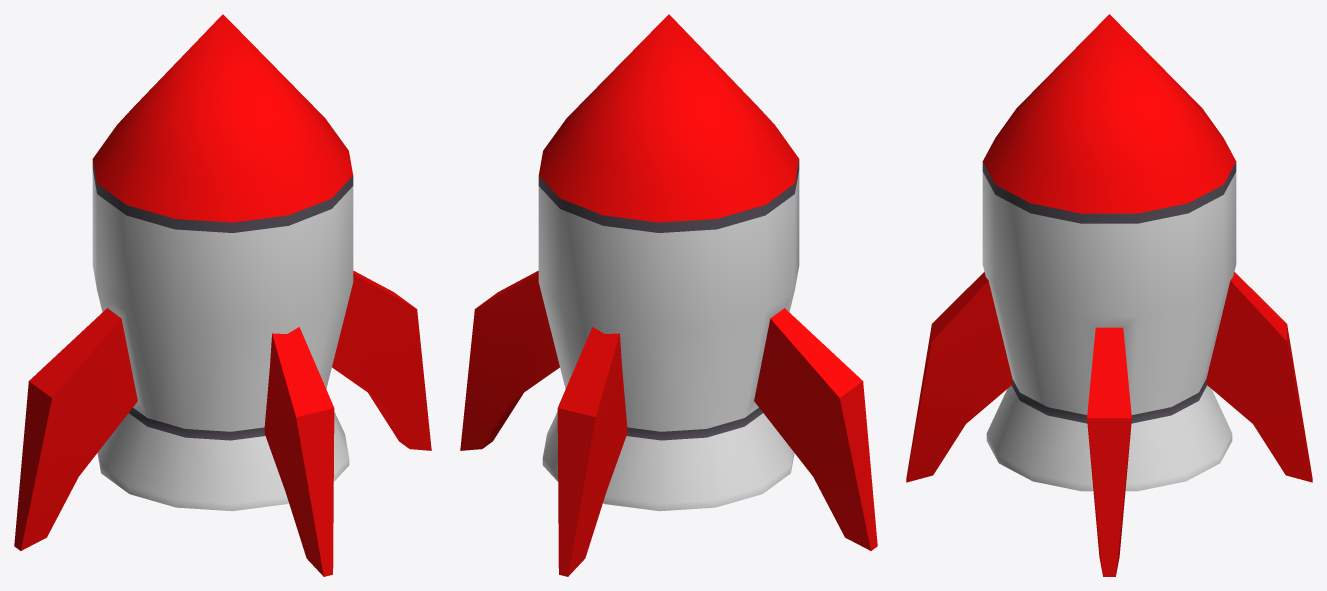
File: bomba.fbx
3 renders of one model, left to right at view 1: azimuth 30°, elevation 25°; view 2: azimuth 150°, elevation 25°; view 3: azimuth 270°, elevation 25°, orthographic. The views are drawn at different scales.
Visible parts, largest first — view 1: Cylinder; view 2: Cylinder; view 3: Cylinder.
Boxes of the visible parts, bbox=[...] form: Cylinder: bbox=[14, 14, 431, 576]; Cylinder: bbox=[460, 14, 877, 576]; Cylinder: bbox=[906, 14, 1312, 576].
Size of the model in its own units: 402 by 454 by 358.
Materials: 1 (1 with a texture image).
